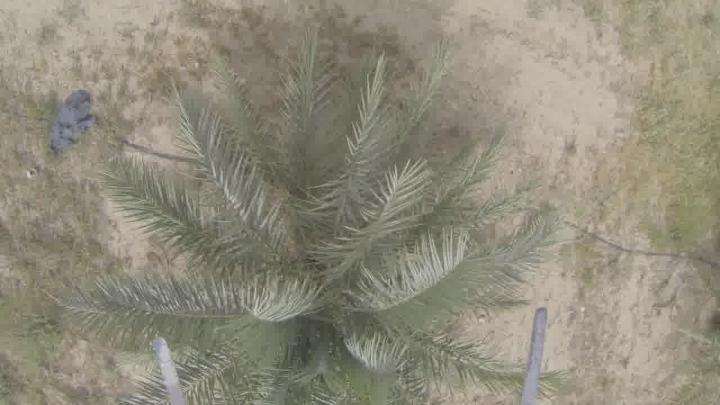Date-Palm-Crown: (198, 147, 450, 405)
